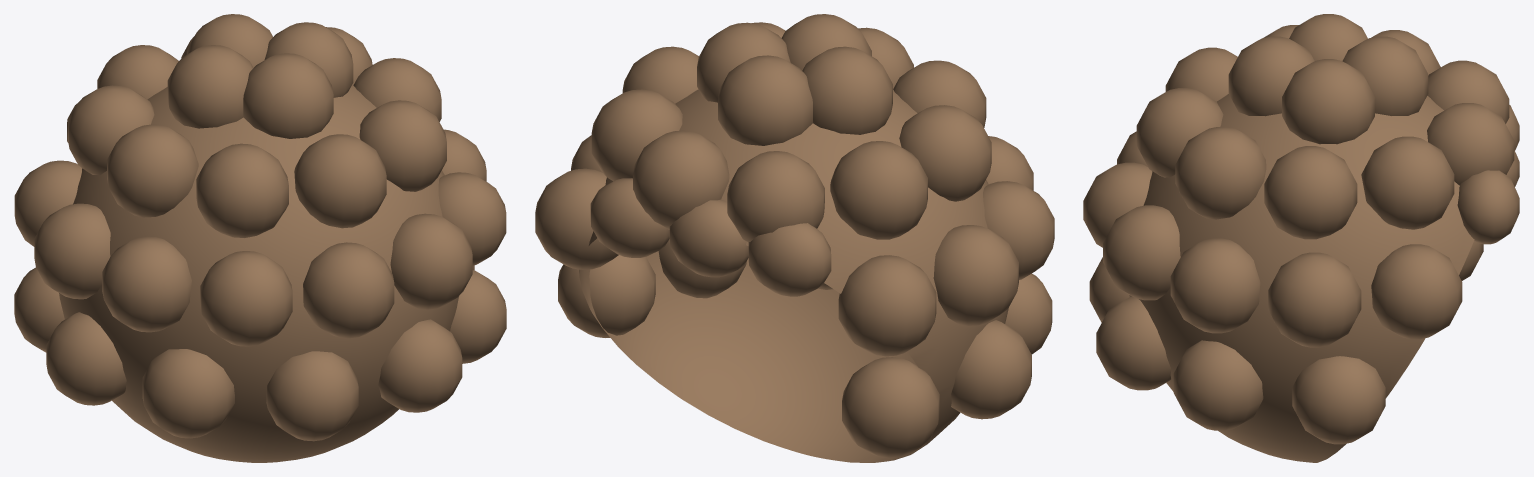
Rendered from curly.glb.
3 views of the same model, side by side, from view 1: azimuth 30°, elevation 25°; view 2: azimuth 150°, elevation 25°; view 3: azimuth 270°, elevation 25° (orthographic). The views are drawn at different scales.
Visible parts, largest first — view 1: Head; view 2: Head; view 3: Head.
Boxes of the visible parts, x1,y1,x2,y2 form: Head: (14, 14, 506, 462); Head: (535, 14, 1054, 462); Head: (1083, 14, 1519, 462).
Bounding box in the file's own units: 0.4862 × 0.4416 × 0.4342.
